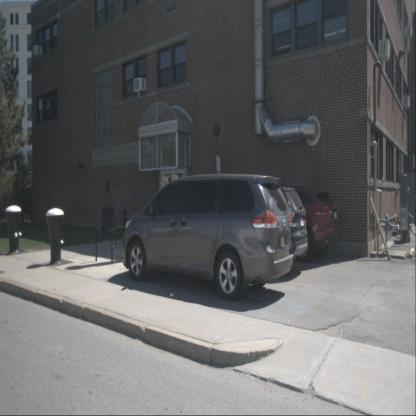vehicle-car: (121, 174, 294, 301), (195, 185, 308, 274), (226, 185, 340, 262)
